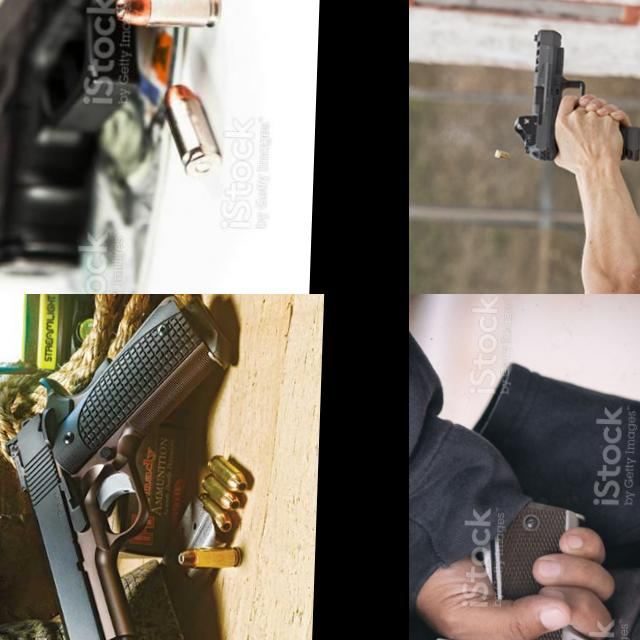handgun: (0, 294, 234, 640), (0, 0, 204, 287), (427, 487, 640, 640), (513, 25, 592, 164)
